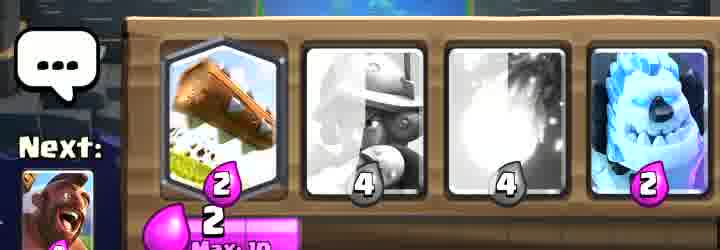hog-rider: (23, 171, 93, 250)
ice-golem: (591, 50, 706, 198)
log: (168, 42, 280, 187)
